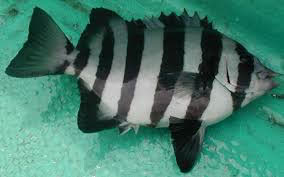azi: (18, 5, 278, 144)
